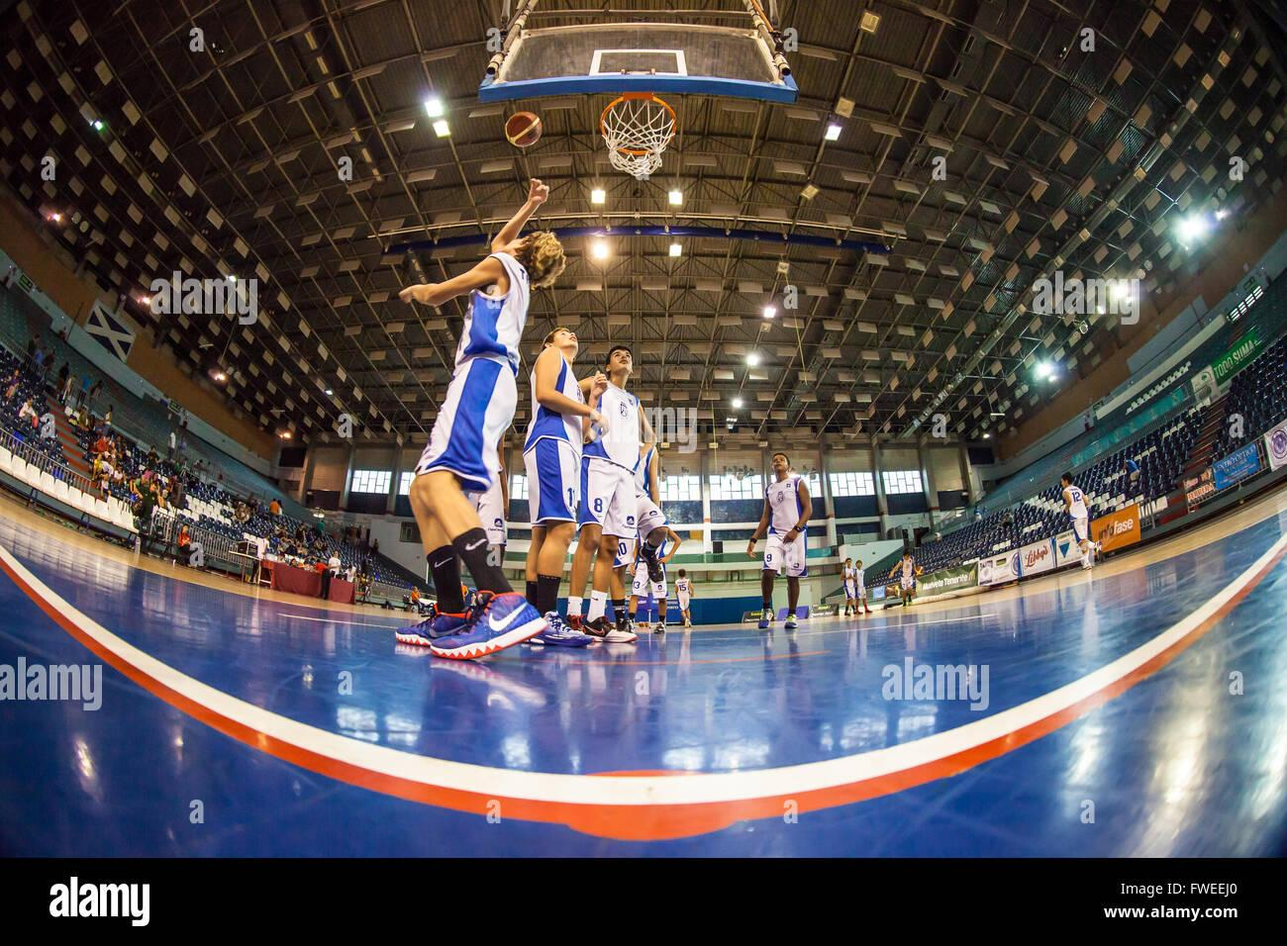basketball: (502, 105, 542, 151)
